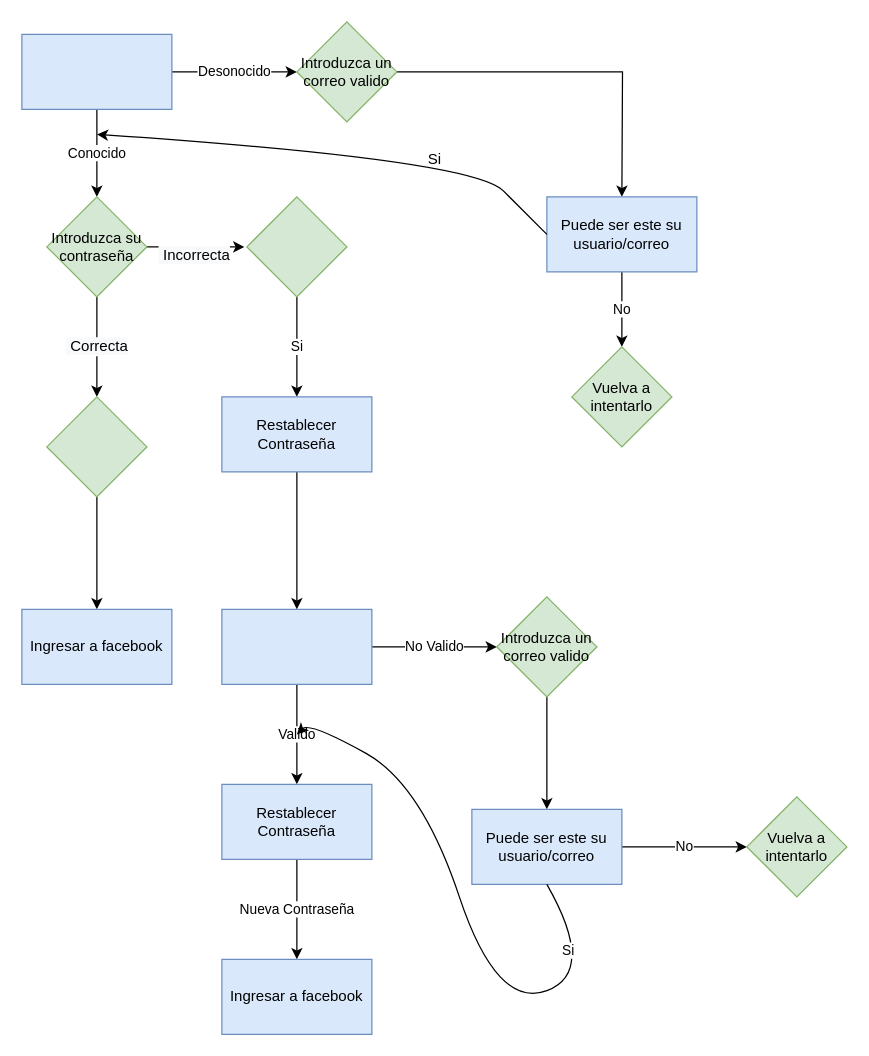
The diagram is 869 pixels wide and 1056 high, and some of its shapes have lost their labels. The centre of each missing label's shape, as x and y in pixels:
"Contraseña Correct" goes at point (96, 446).
"Ha olvidado su contraseña?" goes at point (296, 246).
"Introduzca su correo" goes at point (296, 646).
"Introduzca su usuario" goes at point (96, 71).
